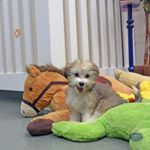puppy: (59, 57, 123, 130)
